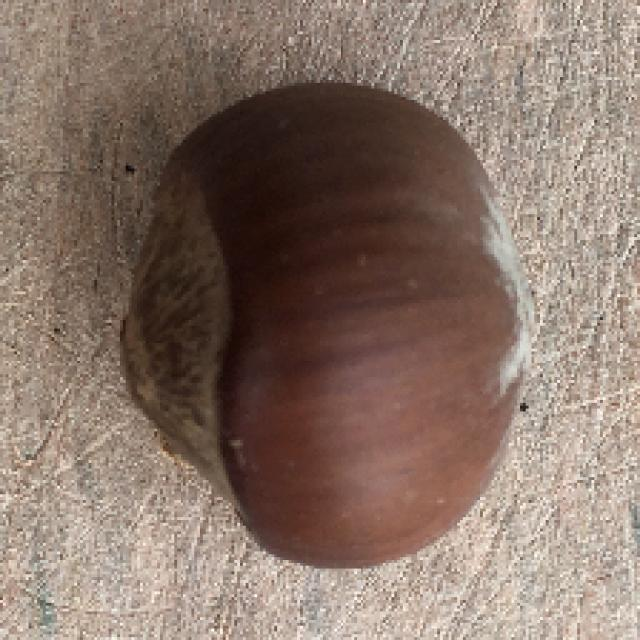damagedHazelnut: (112, 73, 537, 576)
